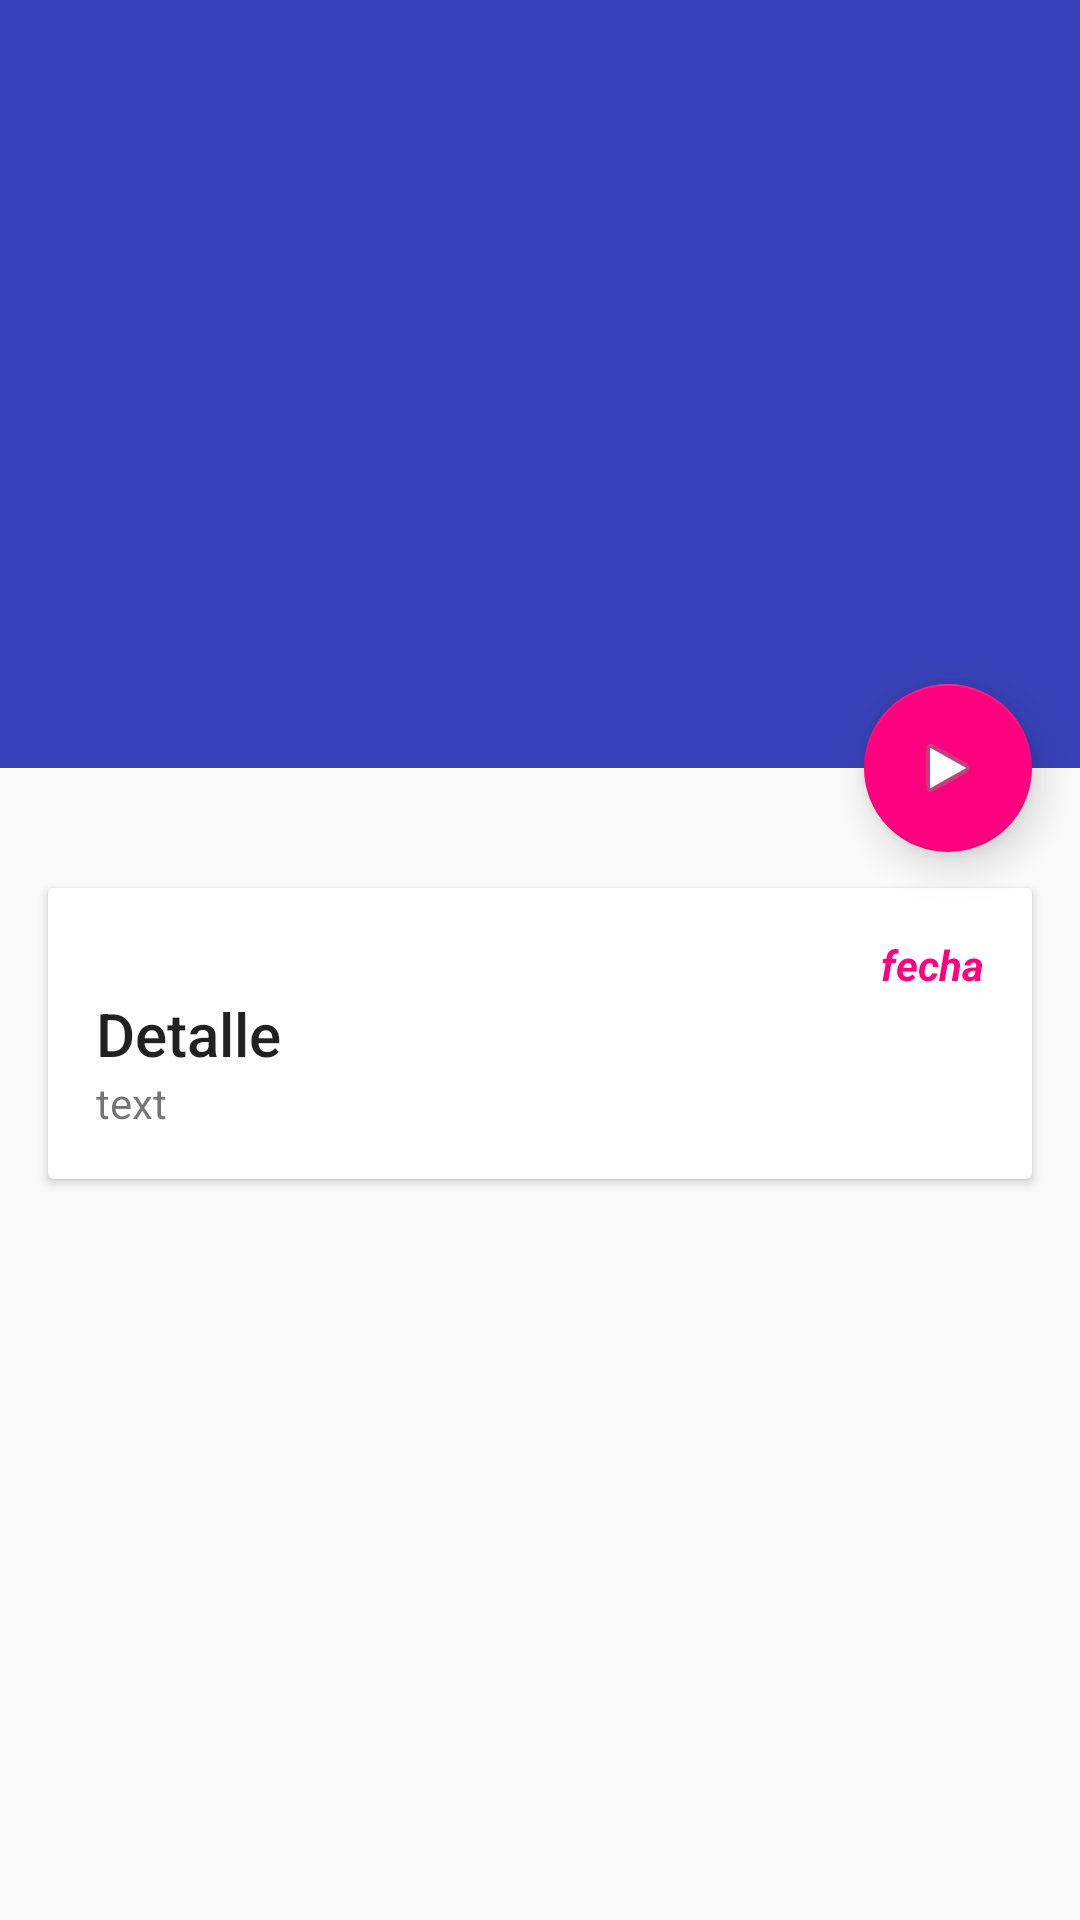

Point at icon controls on the screen. Image size 1080w x 1920h, points as [x,y].
play: [948,768]
